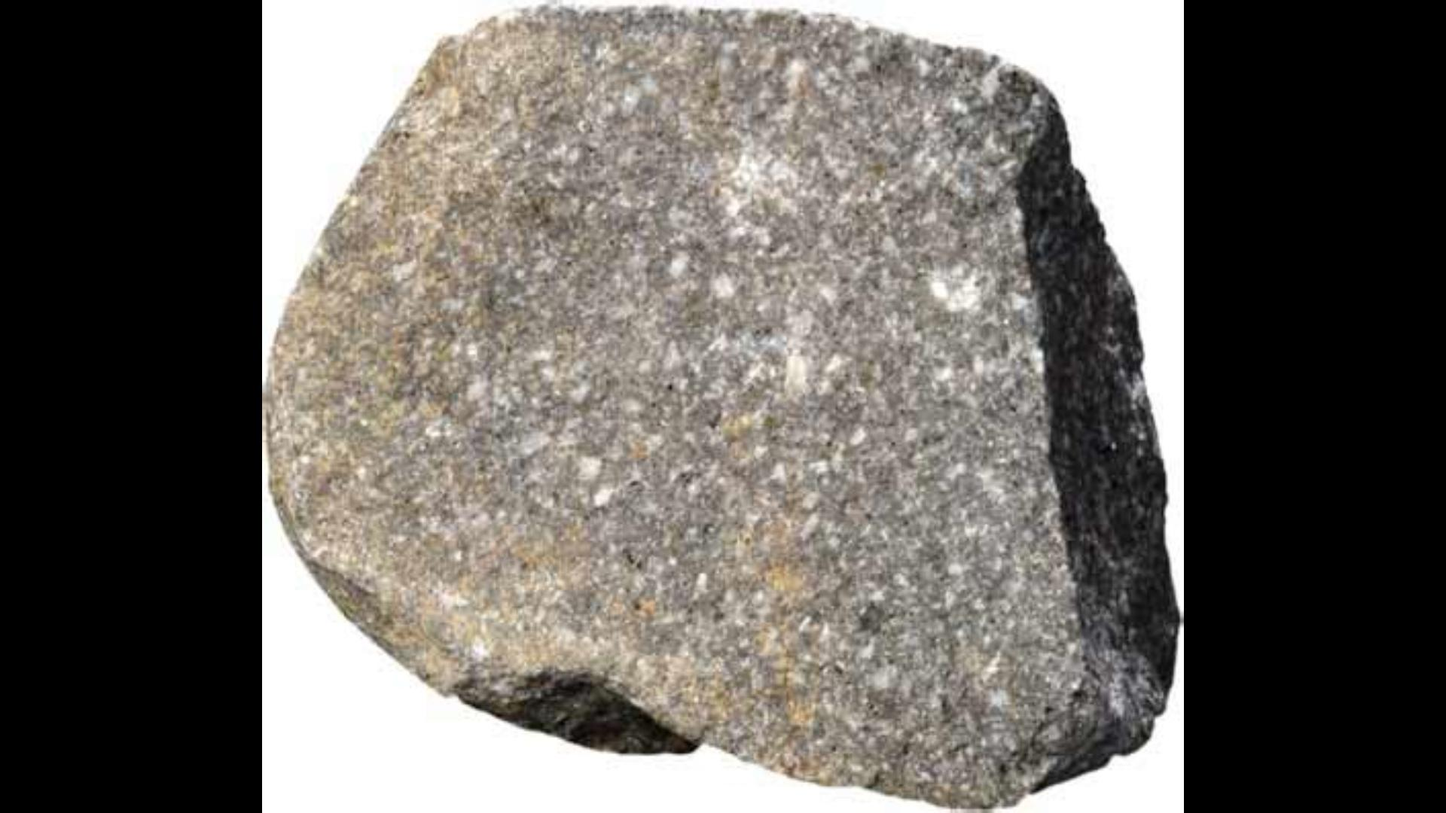rock: (268, 6, 1178, 807)
